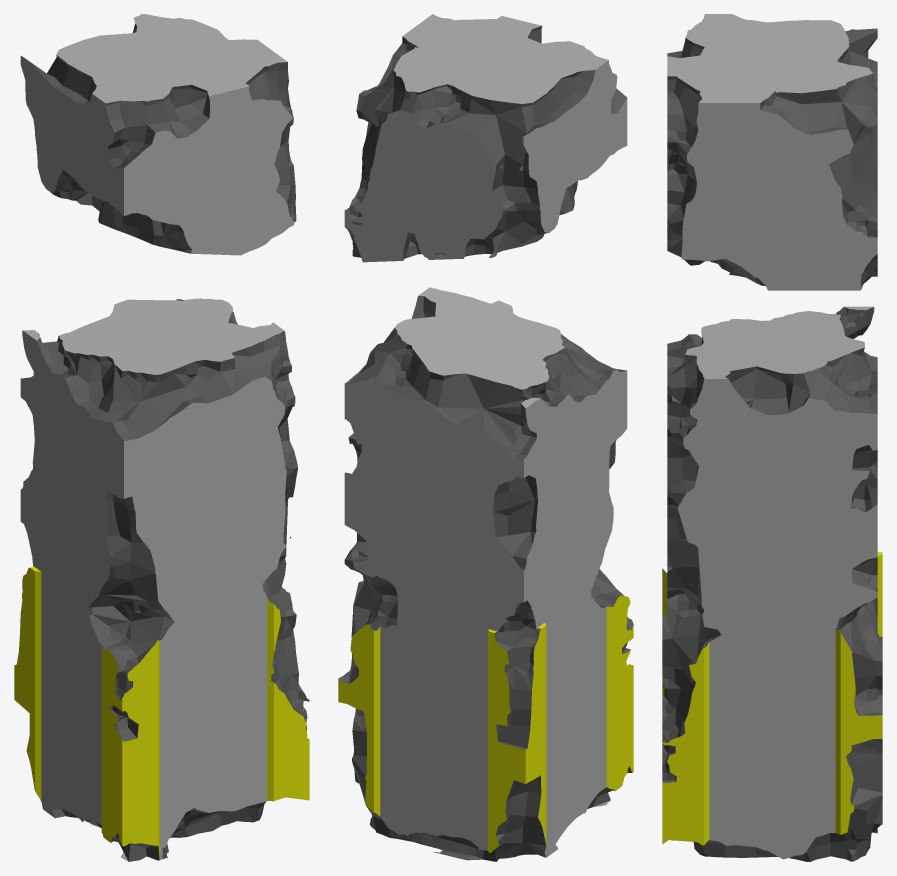
File: pillar very old 3.glb
The picture shows the model from 3 angles, left to right: view 1: azimuth 30°, elevation 25°; view 2: azimuth 150°, elevation 25°; view 3: azimuth 270°, elevation 25°; orthographic projection.
Visible parts, largest first — view 1: pillier détruit; view 2: pillier détruit; view 3: pillier détruit.
Boxes of the visible parts, <box> form: pillier détruit: <box>14,14,309,861</box>; pillier détruit: <box>338,14,633,861</box>; pillier détruit: <box>662,14,882,861</box>.
Size of the model in its own units: 3.35 by 12.83 by 3.35.
